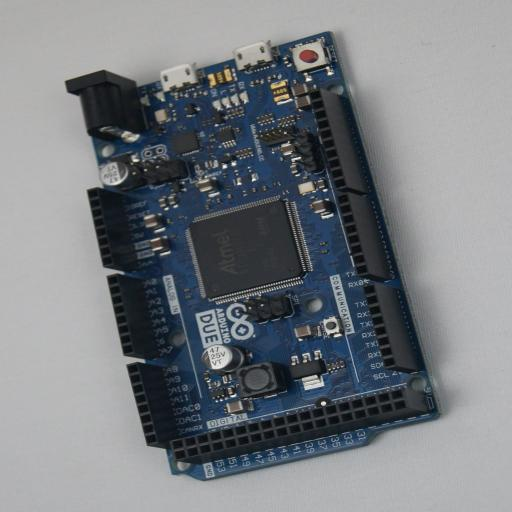Arduino Due: (65, 31, 444, 481)
